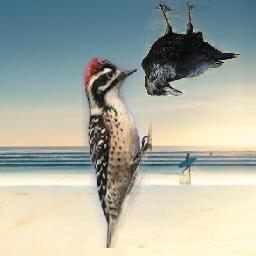Crow: (142, 2, 241, 97)
Woodpecker: (82, 58, 152, 249)
